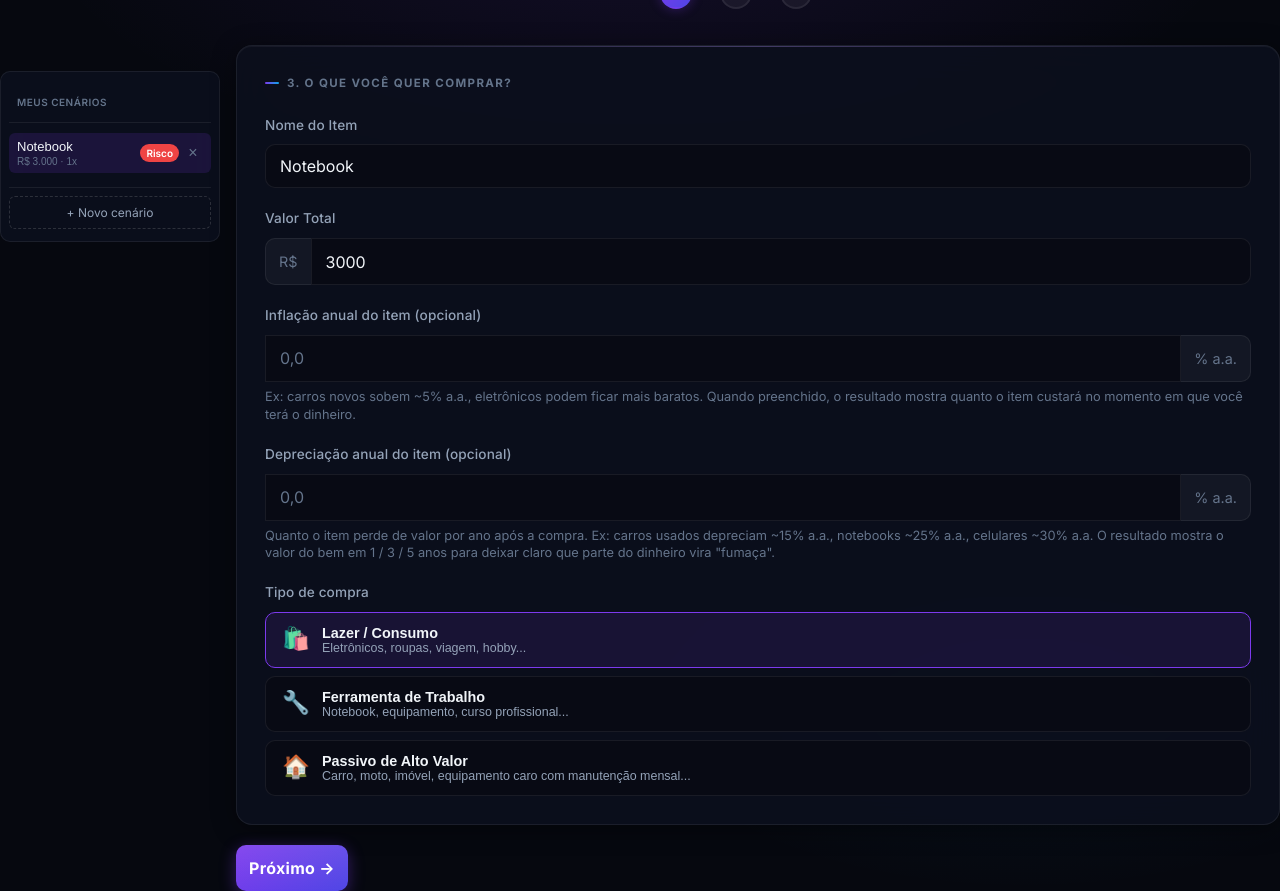
Test: CenariosPage stepper › avança para Step 3 (Resultado) e mostra ResultadoSection
The image size is (1280, 891).
(page scrolled)
Click the button "Próximo →". click: (292, 868)
box: [236,845,348,890]
(page scrolled)
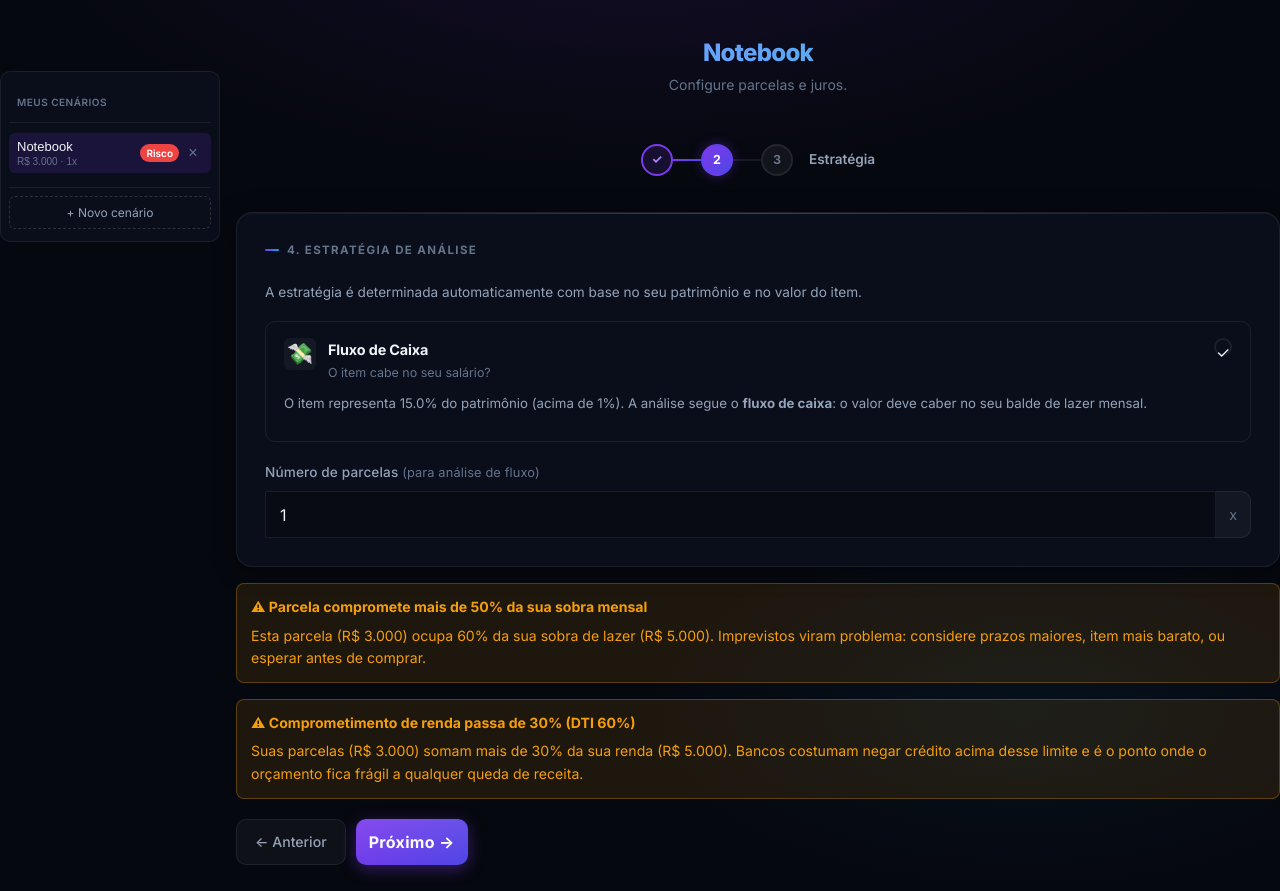
Click the button "Próximo →". click: (412, 842)
box: [356,818,468,864]
(page scrolled)
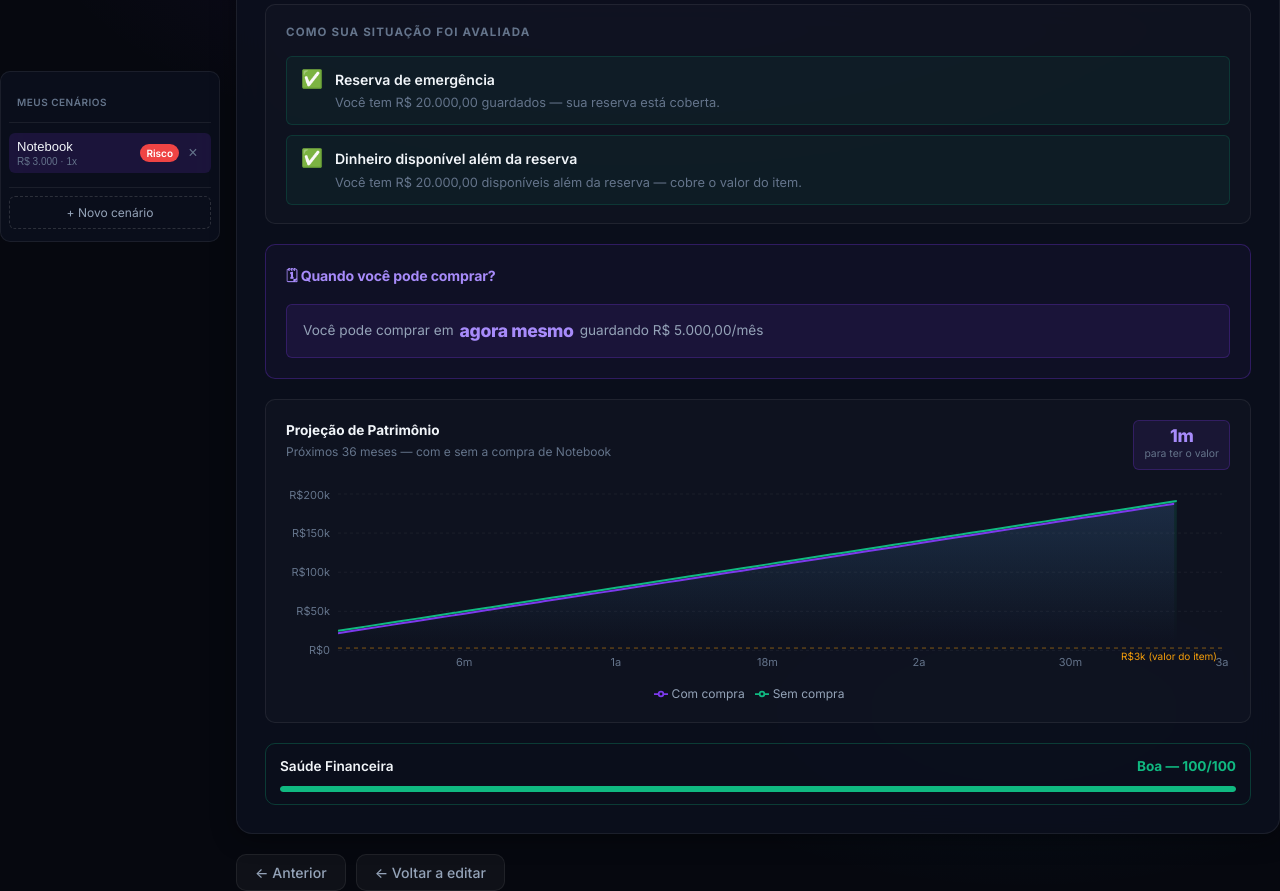
Expected: the button "← Voltar a editar" is shown, [356,854,505,890]
